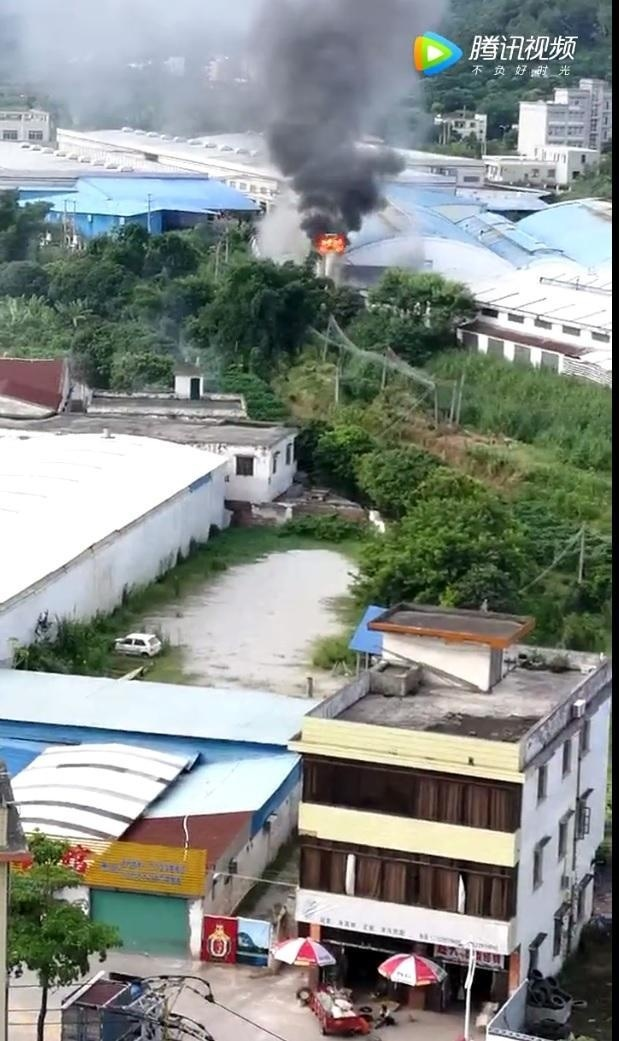fire: (310, 228, 346, 256)
